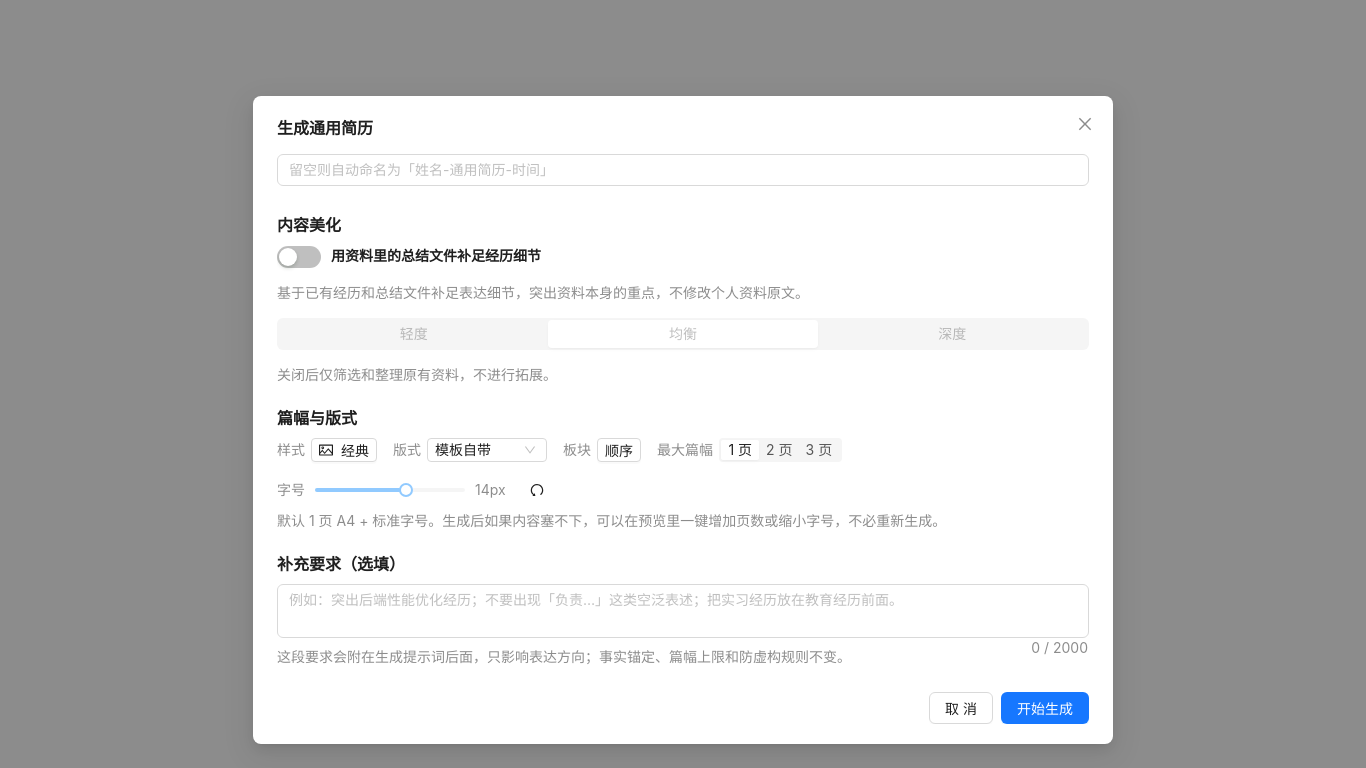
it: GenerateResumeModal 生成进度条 › does not crash when the backend sends no progress message
The image size is (1366, 768).
(page scrolled)
Click the button "开始生成": click(1045, 708) [1001,692,1089,724]
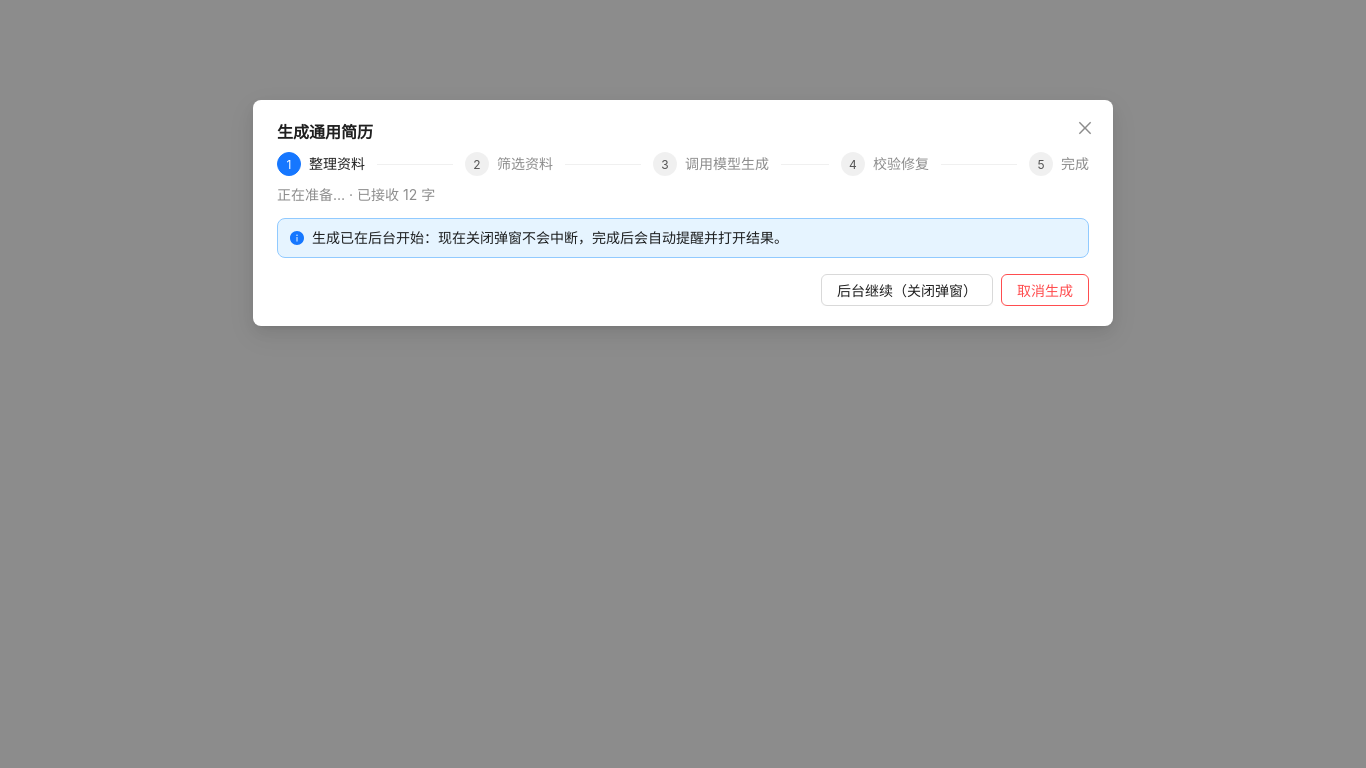
expect the text "正在准备… · 已接收 12 字" is shown: met, box [277,186,435,203]
expect the text "整理资料" is shown: met, box [309,152,377,176]
